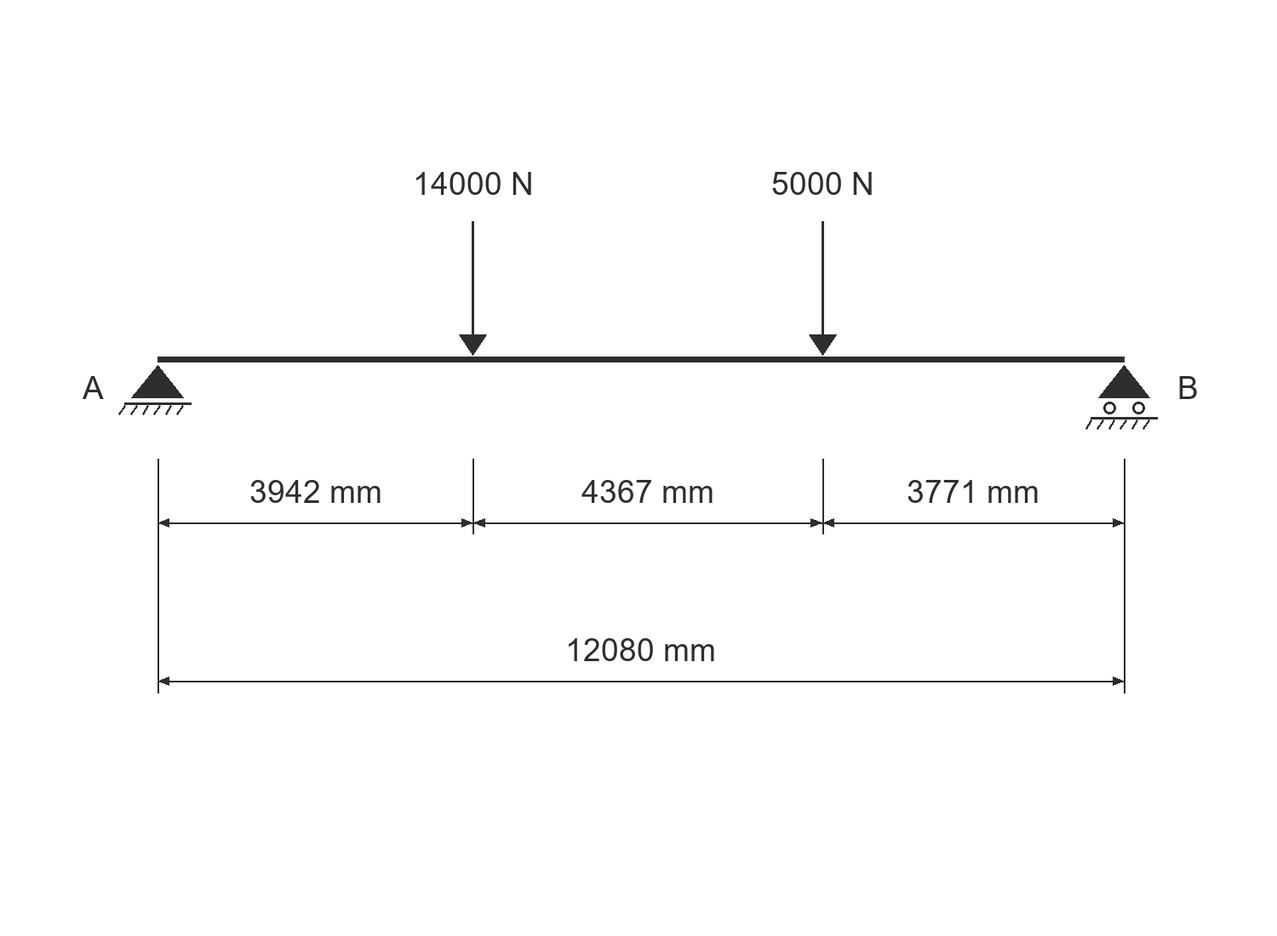pin_support: (118, 365, 192, 415)
point_load: (459, 221, 487, 356), (809, 221, 837, 356)
roller_support: (1085, 365, 1158, 430)
